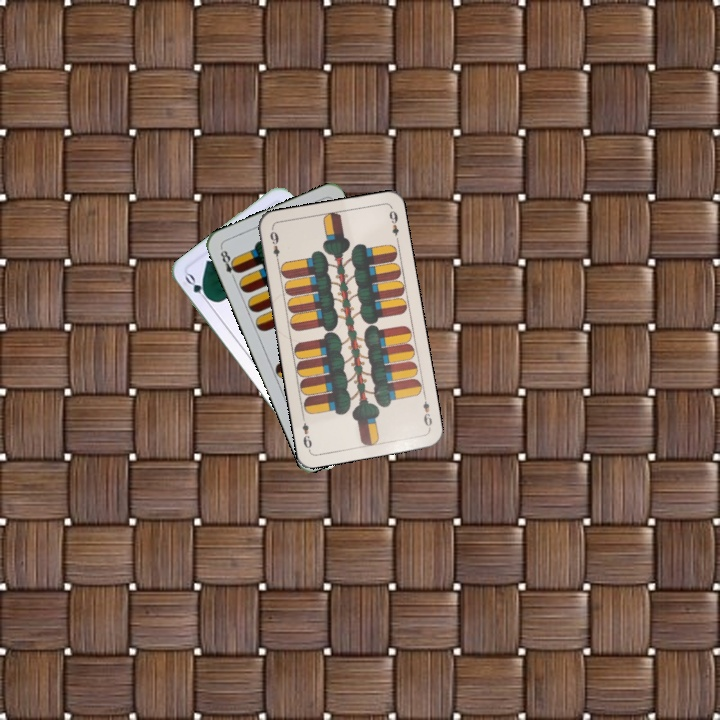E8: (216, 244, 241, 283)
E9: (419, 391, 435, 431), (266, 227, 282, 266)
GO: (181, 270, 214, 306)
